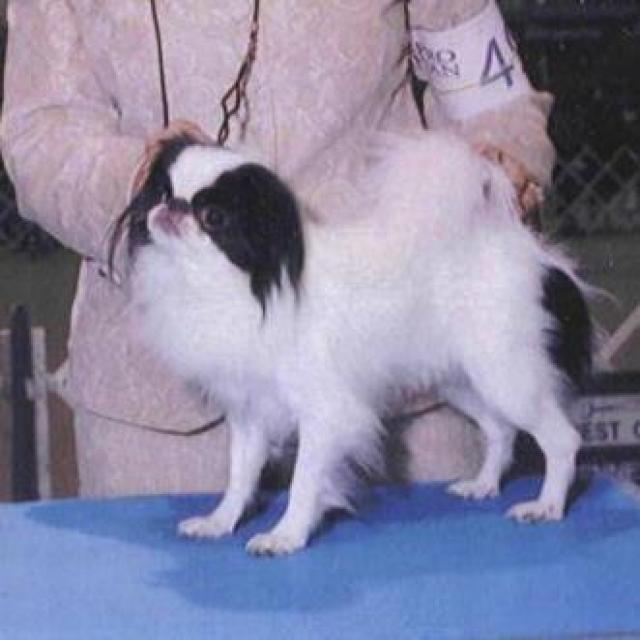husky: (112, 125, 594, 558)
